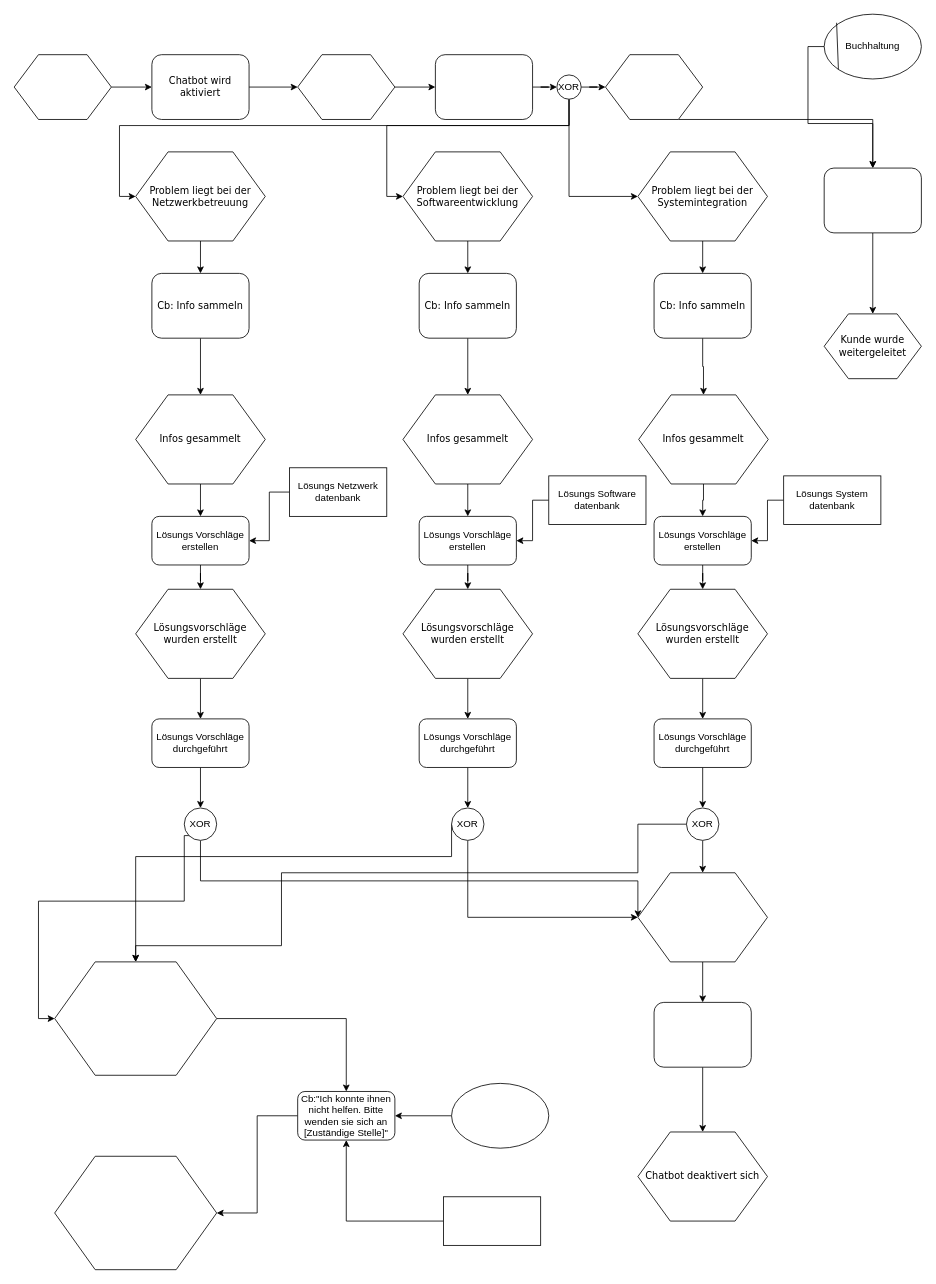
Some shapes in this 936 by 1284 pixel diagram are drawn without their labels. Each missing label, with the centre of its shape:
Cb: "Auf Wiedersehen": point 702,1034
Cb: "In welchen Bereichen kann ich behilflich sein?": point 484,86
Cb: "wenden sie sich an [Buchaltung]": point 872,200
Chatbot dekativiert sich: point 135,1212
Chatbot ist aktiviert: point 346,86
Kunde hat Problem: point 62,86
Liste Zuständige Stelle: point 492,1220
Lösungsvorschläge waren erfolgreich: point 702,917
Lösungsvorschläge waren nichterfolgreich: point 135,1018
Problem liegt bei der Buchaltung: point 654,86
Zuständigestelle: point 500,1115
